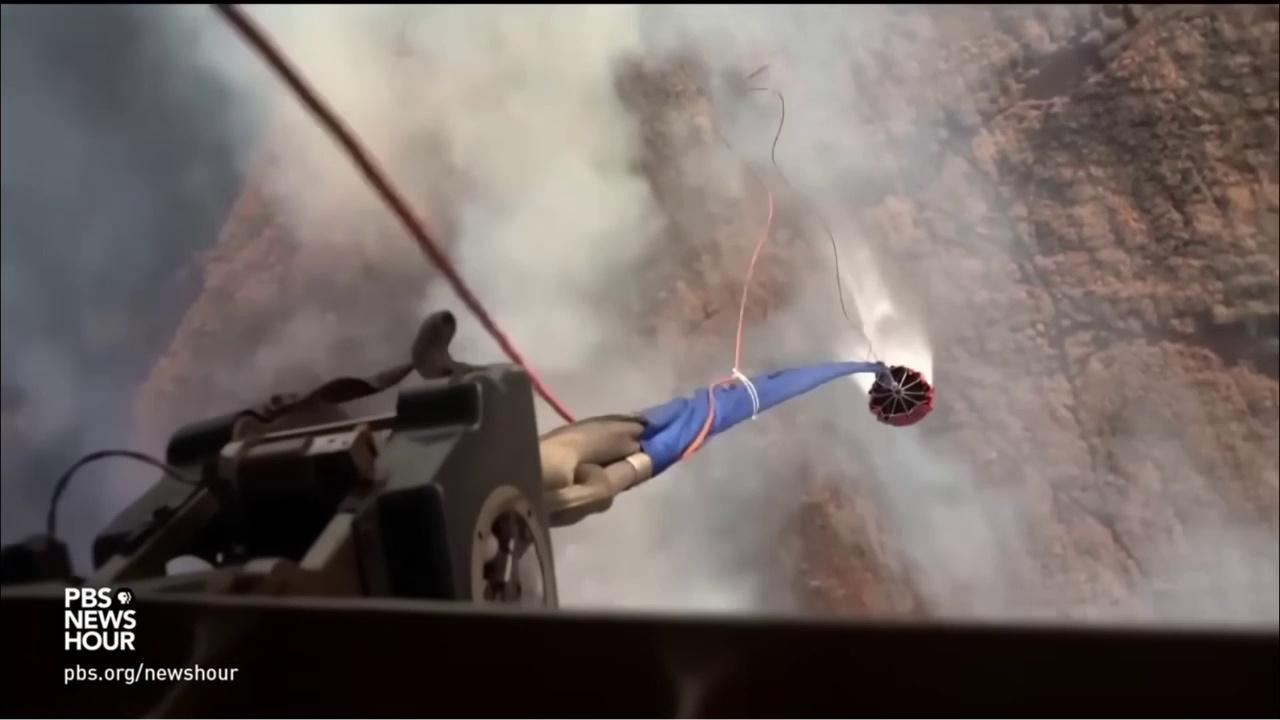smoke: (3, 4, 1278, 627)
